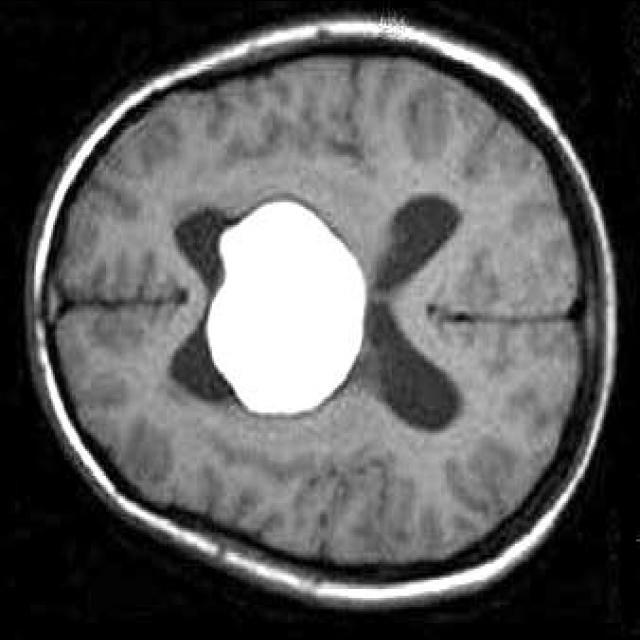tumor: (204, 194, 369, 412)
